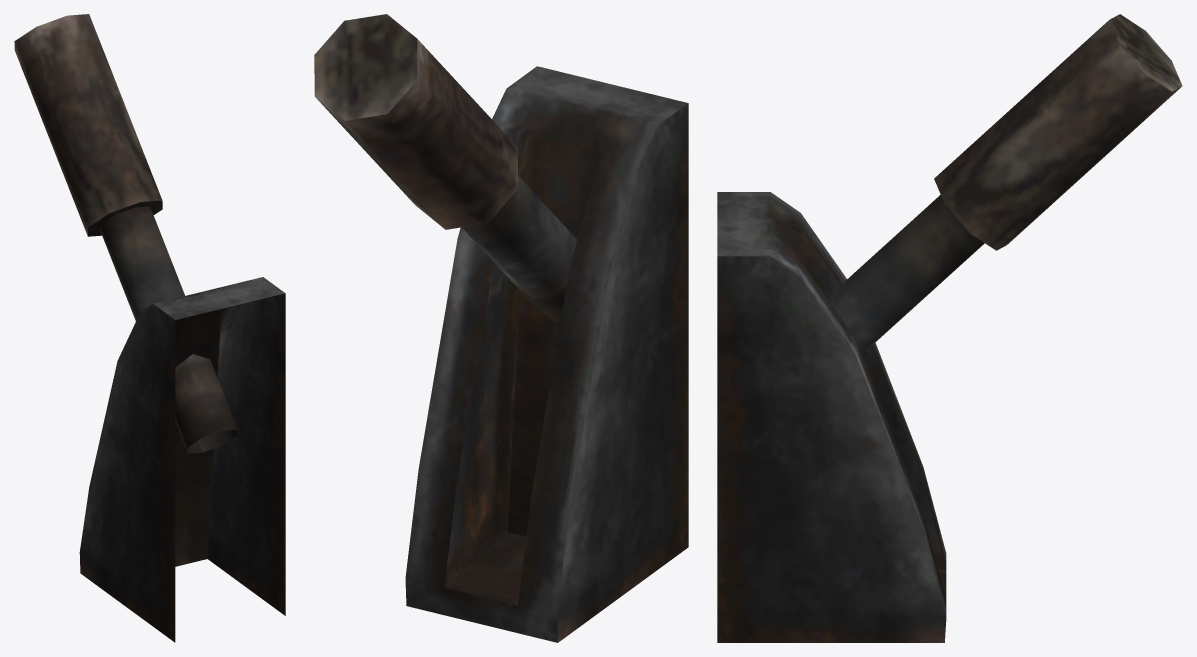
Rendered from extaction_oven_lever.dae.
The picture shows the model from 3 angles, left to right: view 1: azimuth 30°, elevation 25°; view 2: azimuth 150°, elevation 25°; view 3: azimuth 270°, elevation 25°; orthographic projection. The views are drawn at different scales.
Visible parts, largest first — view 1: lever, handle; view 2: lever, handle; view 3: lever, handle.
Boxes of the visible parts, x1=… form: lever: x1=79, y1=277, x2=285, y2=642; handle: x1=14, y1=14, x2=237, y2=453; lever: x1=405, y1=66, x2=688, y2=642; handle: x1=314, y1=14, x2=577, y2=322; lever: x1=717, y1=192, x2=946, y2=642; handle: x1=827, y1=14, x2=1182, y2=354.
Bounding box in the file's own units: 0.0858 × 0.2623 × 0.3678.
